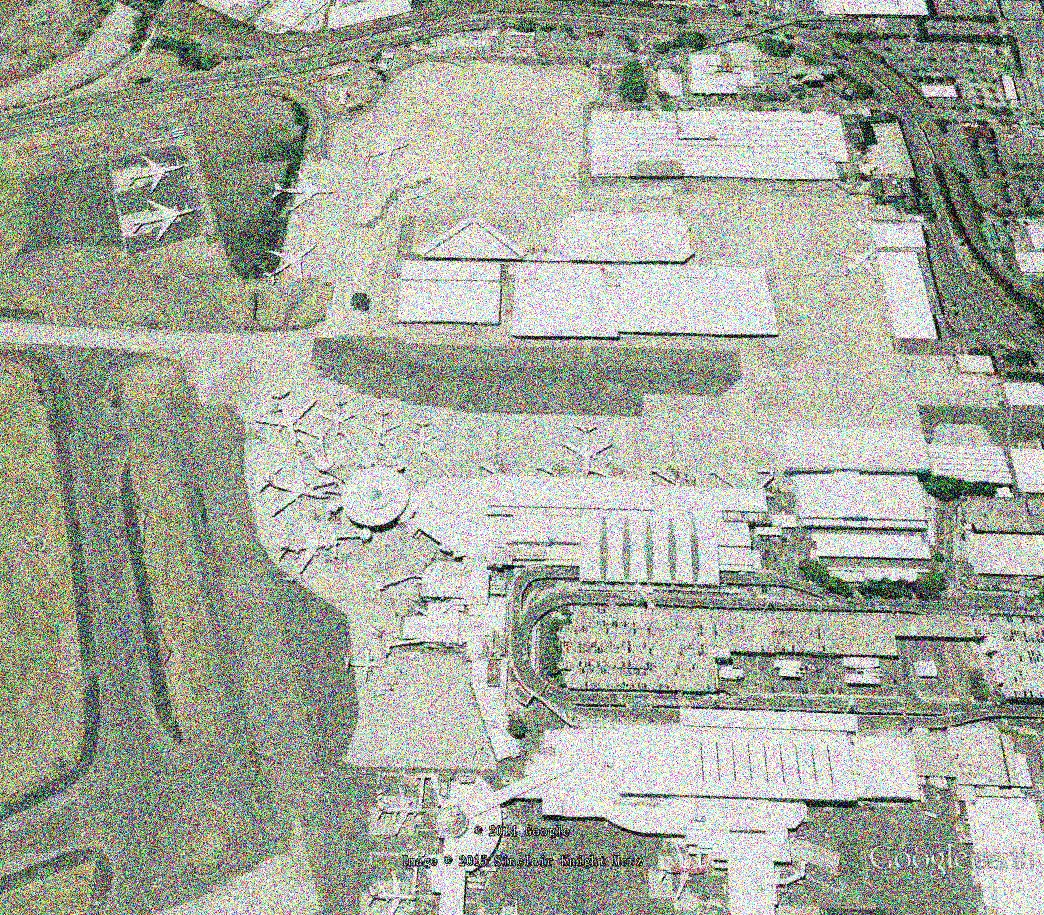aircraft: (255, 457, 333, 521), (253, 387, 323, 449), (275, 516, 343, 578), (128, 196, 202, 250), (271, 167, 342, 217), (558, 422, 619, 480), (657, 841, 711, 904), (375, 783, 432, 840), (257, 241, 323, 286), (122, 153, 191, 195), (366, 866, 425, 915), (833, 243, 883, 287), (355, 135, 414, 172), (319, 396, 361, 442), (343, 646, 389, 687), (362, 409, 405, 446), (404, 422, 444, 459), (404, 180, 448, 208)
